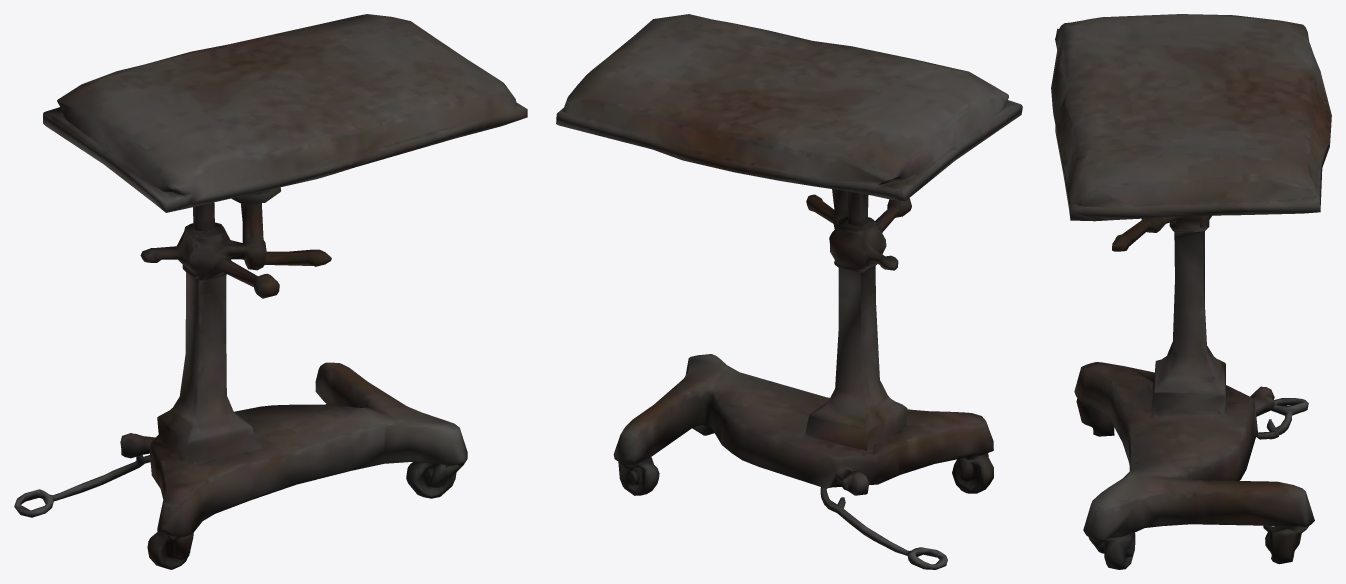
File: ancient-iron-operating-table-v002.glb
The picture shows the model from 3 angles, left to right: view 1: azimuth 30°, elevation 25°; view 2: azimuth 150°, elevation 25°; view 3: azimuth 270°, elevation 25°; orthographic projection. The views are drawn at different scales.
Visible parts, largest first — view 1: ancient-iron-operating-table; view 2: ancient-iron-operating-table; view 3: ancient-iron-operating-table.
Part boxes in pixels (left/top/right/bottom): ancient-iron-operating-table: left=14, top=14, right=527, bottom=569; ancient-iron-operating-table: left=556, top=14, right=1022, bottom=569; ancient-iron-operating-table: left=1051, top=14, right=1331, bottom=569.
Size of the model in its own units: 0.8422 by 0.8396 by 0.5015.
Materials: 1 (1 with a texture image).
